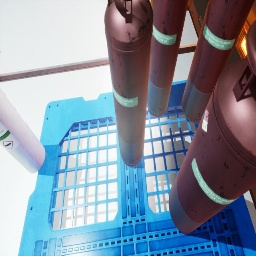0: (0, 87, 46, 173)
NitrogenTank ,: (168, 19, 256, 234), (182, 0, 255, 123), (104, 0, 153, 167), (147, 0, 189, 117)
